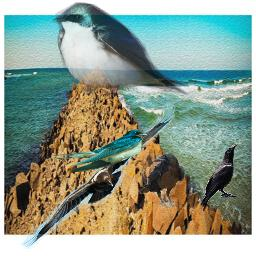Crow: (20, 102, 178, 249), (200, 144, 237, 211), (140, 153, 185, 208)
Swallow: (52, 1, 189, 95), (51, 129, 147, 172)
